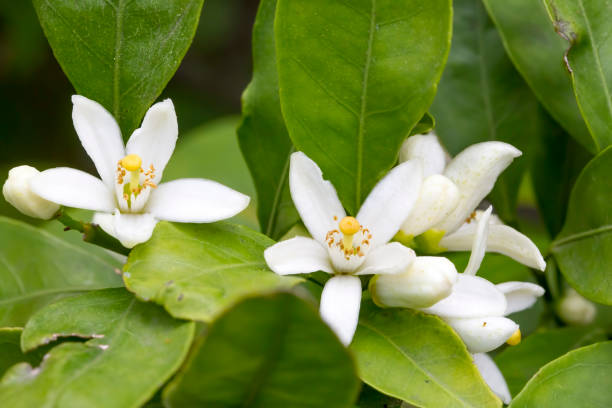flower: (25, 92, 254, 248), (262, 146, 425, 354)
